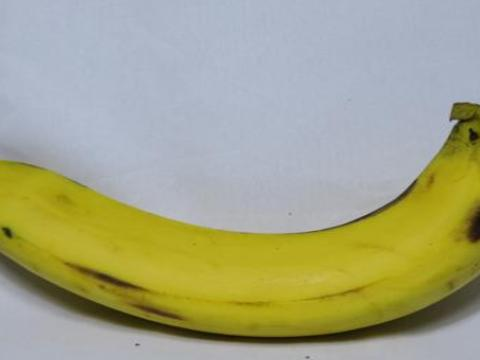freshripe: (0, 96, 479, 359)
